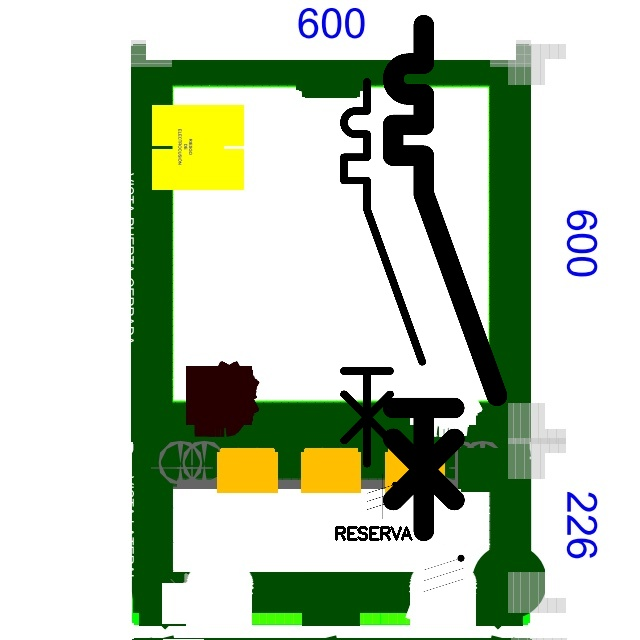interruptor_termomagnetico: (380, 12, 510, 543), (334, 72, 432, 473)
